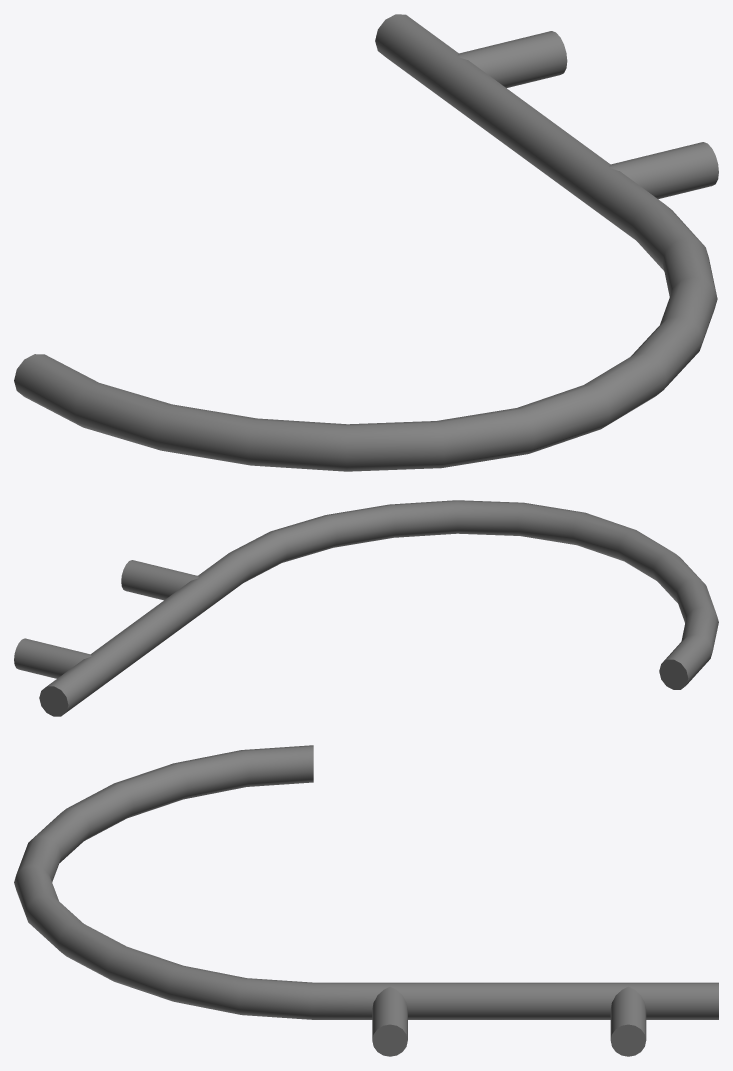
File: Jana_x700_y0.obj
3 views of the same model, one above another, from view 1: azimuth 30°, elevation 25°; view 2: azimuth 150°, elevation 25°; view 3: azimuth 270°, elevation 25° (orthographic). The views are drawn at different scales.
Parts seen in each view (by area): view 1: Auslegerbogen_BezierCurve.005, Streben_Cylinder.008; view 2: Auslegerbogen_BezierCurve.005, Streben_Cylinder.008; view 3: Auslegerbogen_BezierCurve.005, Streben_Cylinder.008.
Part boxes in pixels (x1,y1,x2,y2): Auslegerbogen_BezierCurve.005: [14, 14, 717, 471]; Streben_Cylinder.008: [457, 31, 718, 199]; Auslegerbogen_BezierCurve.005: [39, 500, 718, 716]; Streben_Cylinder.008: [14, 560, 198, 678]; Auslegerbogen_BezierCurve.005: [14, 745, 718, 1019]; Streben_Cylinder.008: [372, 986, 646, 1056].
Bounding box in the file's own units: 0.7195 × 0.04 × 0.753.
Materials: 1 (1 with a texture image).
